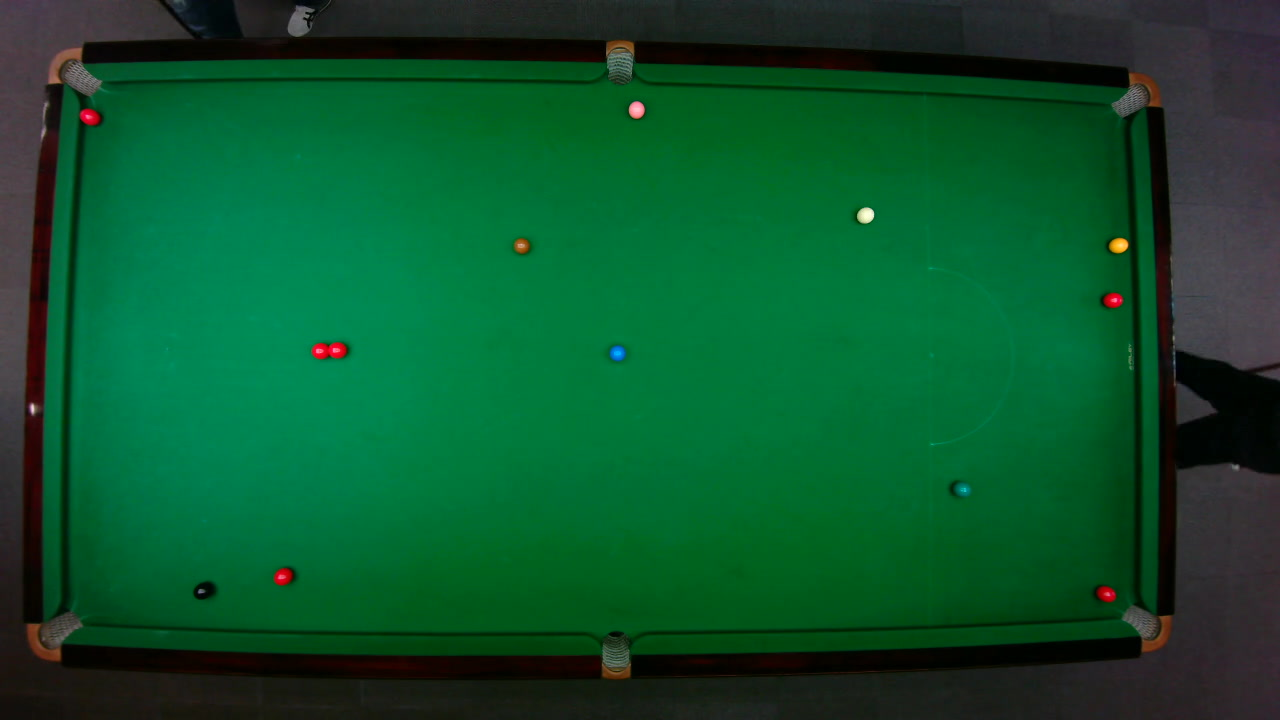bag: (25, 609, 83, 662), (46, 46, 102, 96), (1119, 603, 1172, 652), (1109, 71, 1161, 118), (600, 629, 630, 680), (605, 38, 633, 85)
black: (192, 581, 213, 600)
blue: (608, 344, 626, 361)
brown: (512, 237, 530, 254)
green: (950, 480, 971, 497)
pink: (626, 99, 645, 119)
red: (77, 106, 101, 125), (272, 566, 294, 585), (325, 340, 347, 359), (1094, 584, 1116, 602), (1101, 291, 1123, 308), (310, 341, 330, 359)
white: (854, 205, 875, 224)
yellow: (1107, 236, 1129, 253)
zone: (927, 266, 1013, 445)
